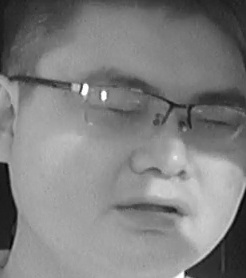blink: (106, 104, 142, 120), (200, 115, 232, 132)
glass: (85, 83, 171, 140), (185, 99, 246, 148)
mouth: (111, 190, 187, 234)
